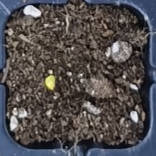pepper seed: (16, 29, 73, 120)
